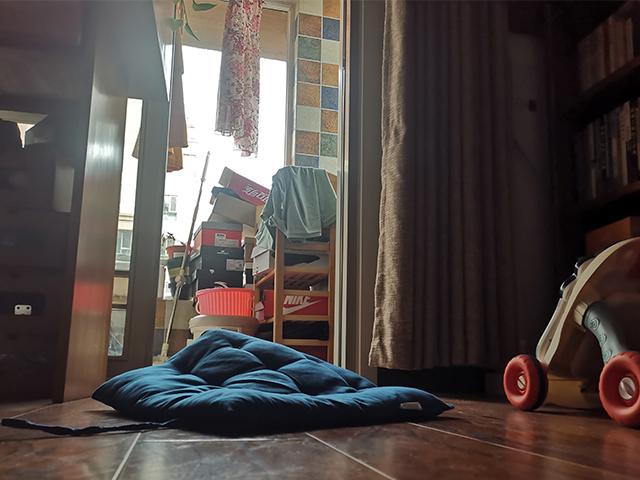curtain: (366, 1, 523, 371)
